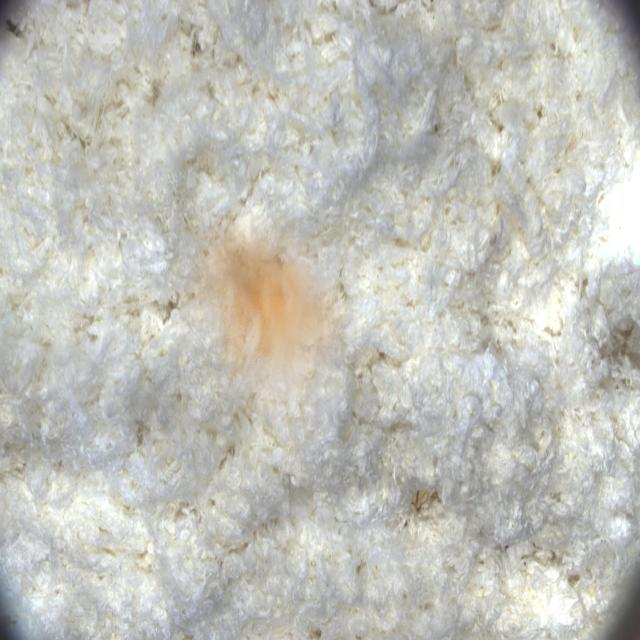dust: (172, 215, 358, 449)
